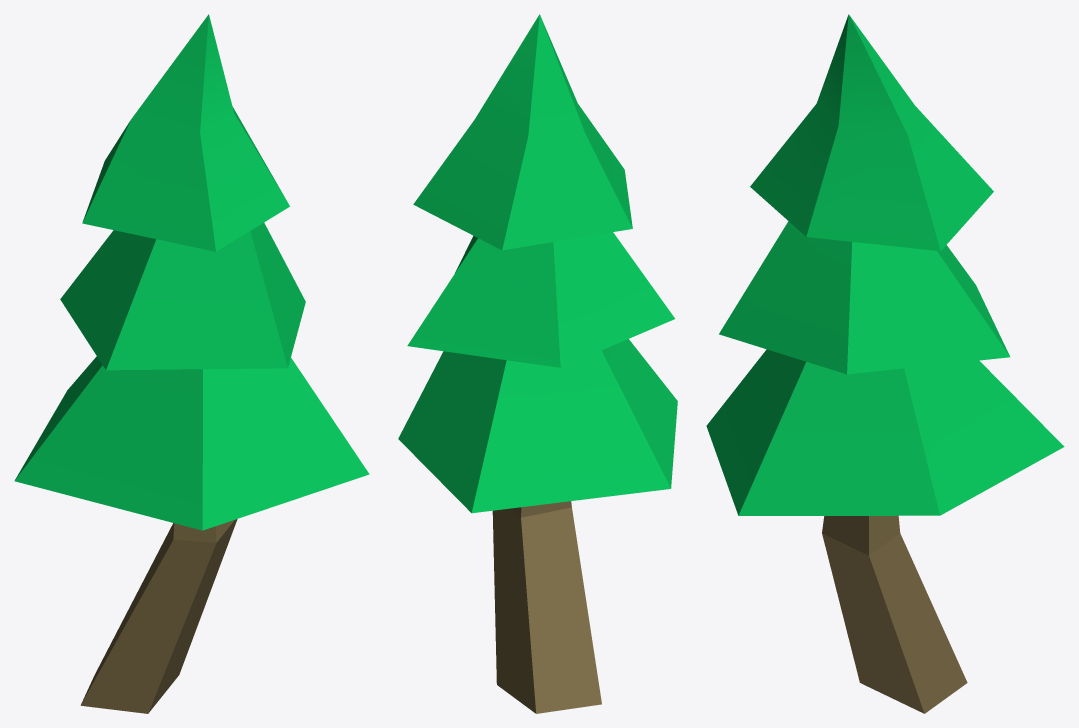
3 renders of one model, left to right at view 1: azimuth 30°, elevation 25°; view 2: azimuth 150°, elevation 25°; view 3: azimuth 270°, elevation 25°, orthographic. The views are drawn at different scales.
Visible parts, largest first — view 1: ki17; view 2: ki17; view 3: ki17.
Boxes of the visible parts, x1=… form: ki17: x1=14, y1=14, x2=369, y2=713; ki17: x1=398, y1=14, x2=677, y2=713; ki17: x1=706, y1=14, x2=1064, y2=713.
Size of the model in its own units: 1.37 by 3.3 by 1.54.
